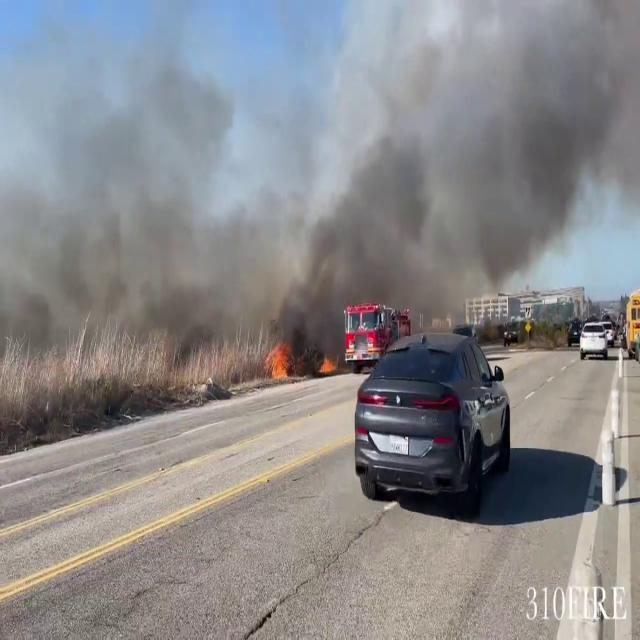Fire: (263, 337, 294, 383)
Smoke: (276, 0, 640, 316), (0, 12, 282, 375)
